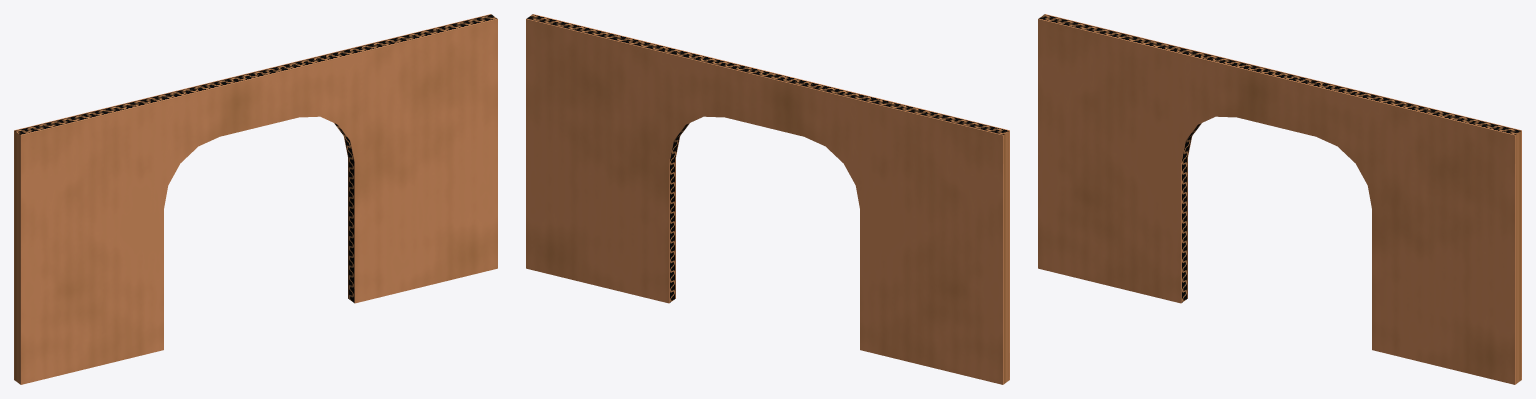
The model's file is M_CardboardPanels_2x1_Door.fbx.
3 renders of one model, left to right at view 1: azimuth 30°, elevation 25°; view 2: azimuth 150°, elevation 25°; view 3: azimuth 330°, elevation 25°, orthographic.
Visible parts, largest first — view 1: Panels, Edges, DoorEdges; view 2: Panels, Edges, DoorEdges; view 3: Panels, Edges, DoorEdges.
Boxes of the visible parts, bbox=[...] form: Panels: bbox=[21, 19, 497, 384]; Edges: bbox=[14, 14, 497, 384]; DoorEdges: bbox=[334, 123, 354, 303]; Panels: bbox=[526, 19, 1002, 384]; Edges: bbox=[526, 14, 1009, 384]; DoorEdges: bbox=[669, 123, 689, 303]; Panels: bbox=[1038, 19, 1514, 384]; Edges: bbox=[1038, 14, 1521, 384]; DoorEdges: bbox=[1181, 123, 1201, 303].
Size of the model in its own units: 10 by 5 by 0.25.
Materials: 1 (1 with a texture image).
